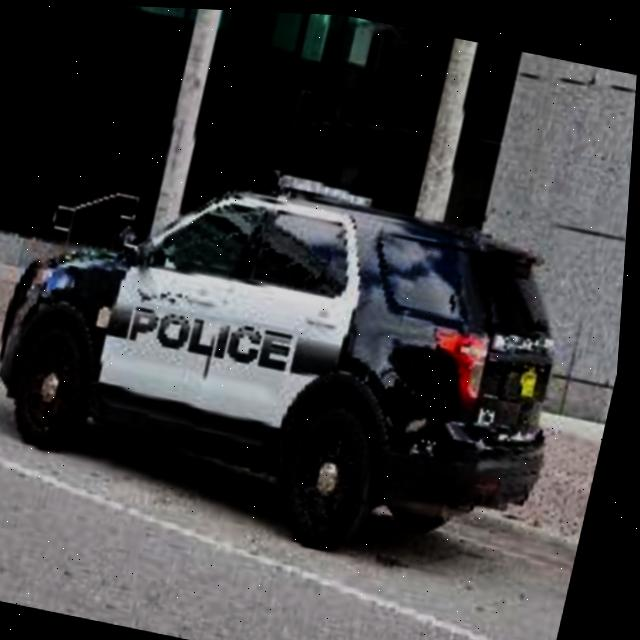emergency: (0, 134, 596, 577)
